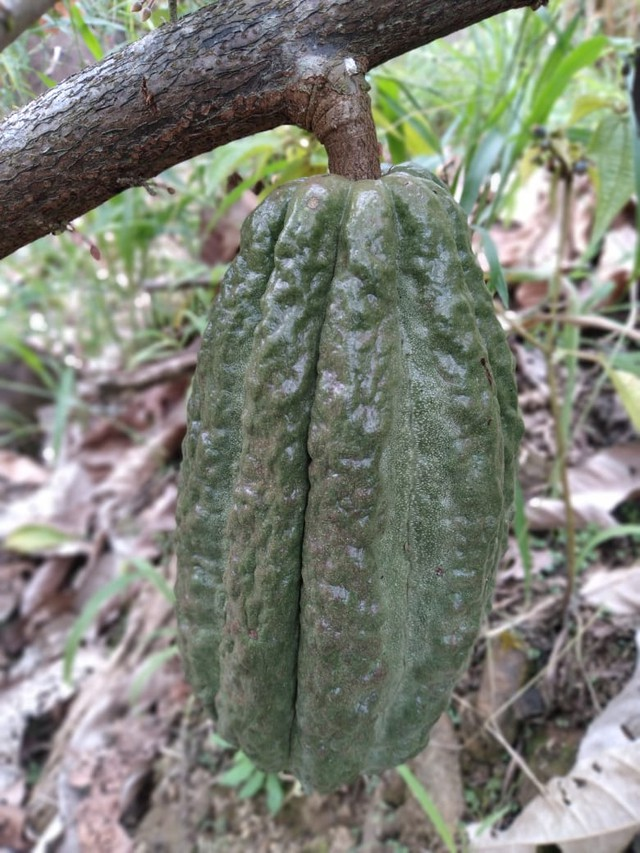Health: (159, 112, 546, 809)
